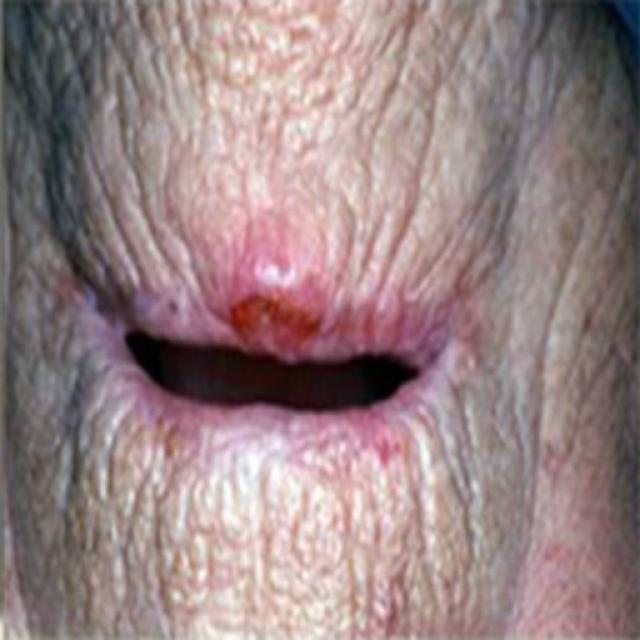cancer-detection: (202, 234, 359, 364)
processing_area: (117, 236, 484, 363), (116, 342, 462, 469)
